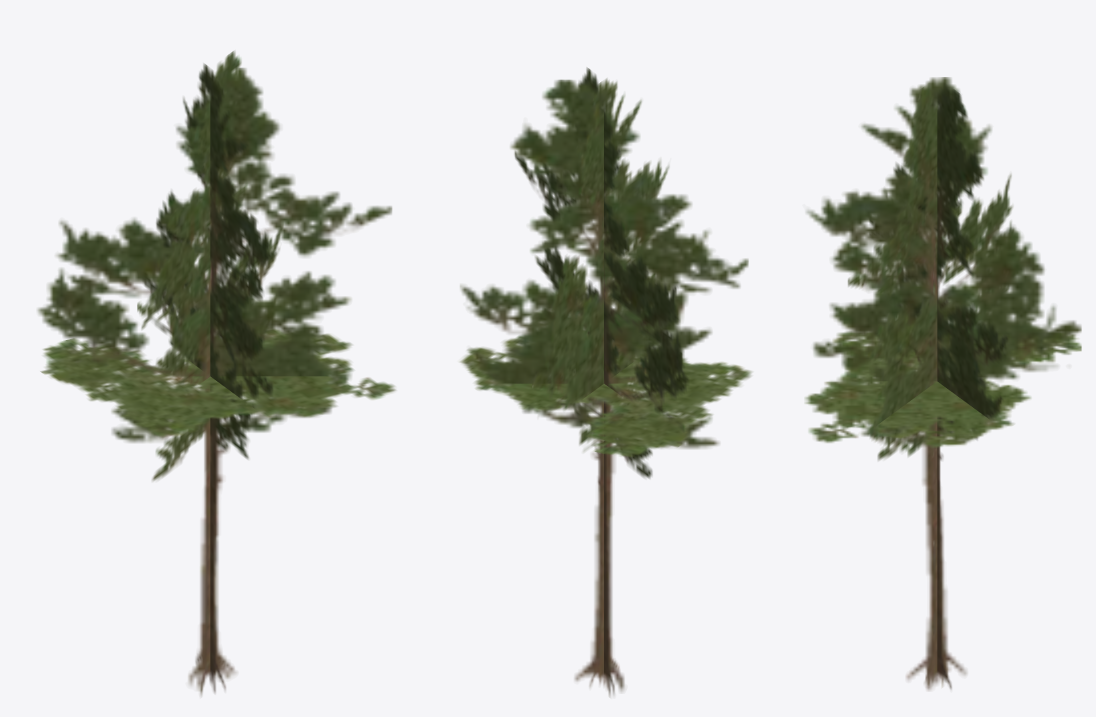
The model's file is tpine3_far.glb.
3 renders of one model, left to right at view 1: azimuth 30°, elevation 25°; view 2: azimuth 150°, elevation 25°; view 3: azimuth 270°, elevation 25°, orthographic.
Parts seen in each view (by area): view 1: prefab; view 2: prefab; view 3: prefab.
Boxes of the visible parts, left/top/right/bottom form: prefab: left=37, top=51, right=395, bottom=695; prefab: left=460, top=67, right=751, bottom=696; prefab: left=805, top=77, right=1081, bottom=690.
Size of the model in its own units: 6.36 by 13.98 by 5.78.
Materials: 1 (1 with a texture image).
